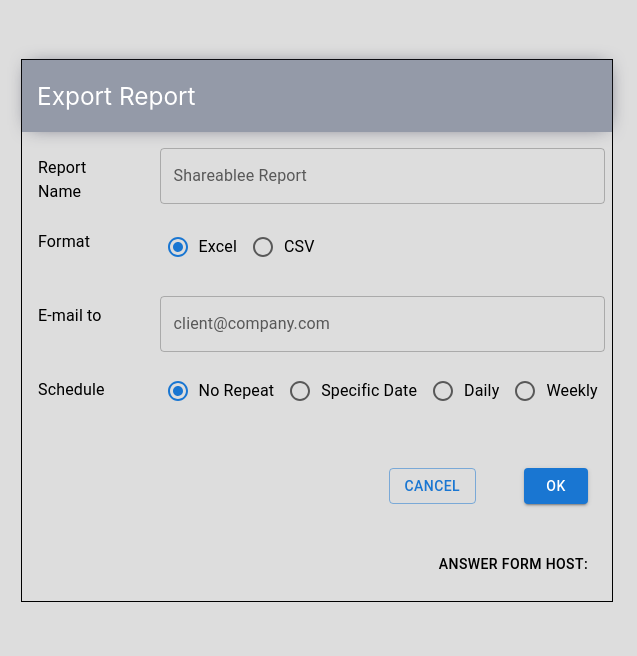
Test: <Modal /> Component! › change content to Date
Click the radio button labelled "Specific Date" at (353, 390), box [288,378,417,402]
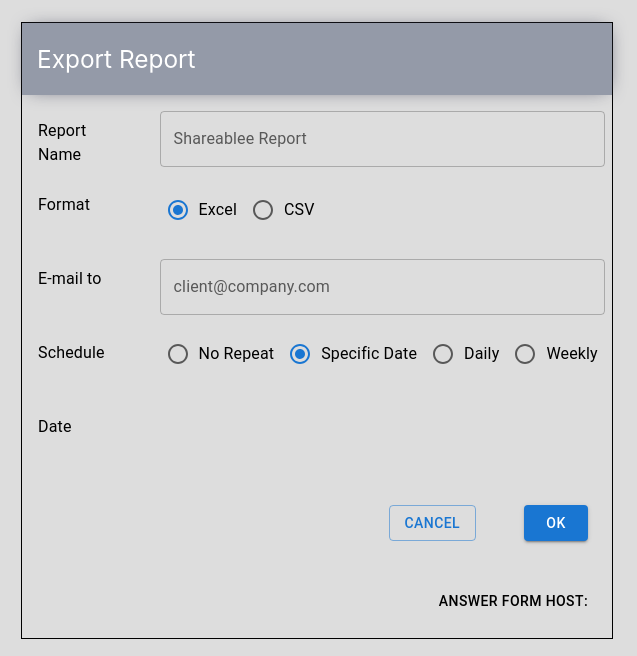
Result: the text "Date" is shown at [38,416,72,436]
